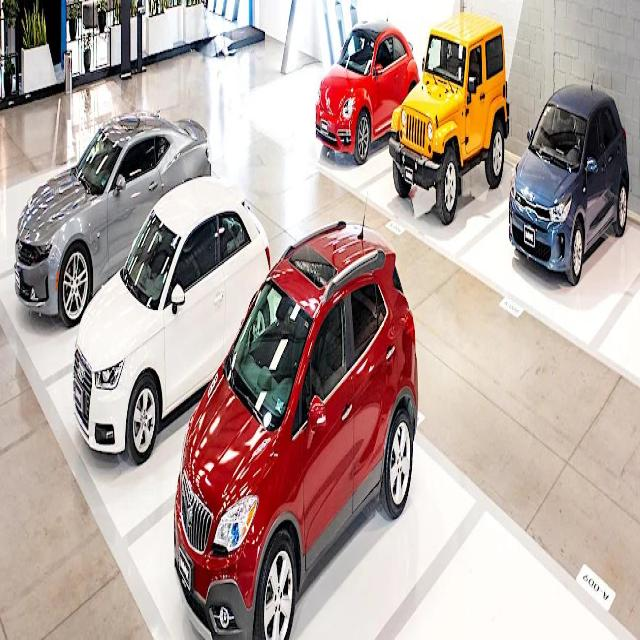libre: (397, 506, 598, 639), (247, 48, 330, 141)
ocupado: (7, 101, 425, 639), (301, 2, 509, 253), (501, 46, 634, 298)
